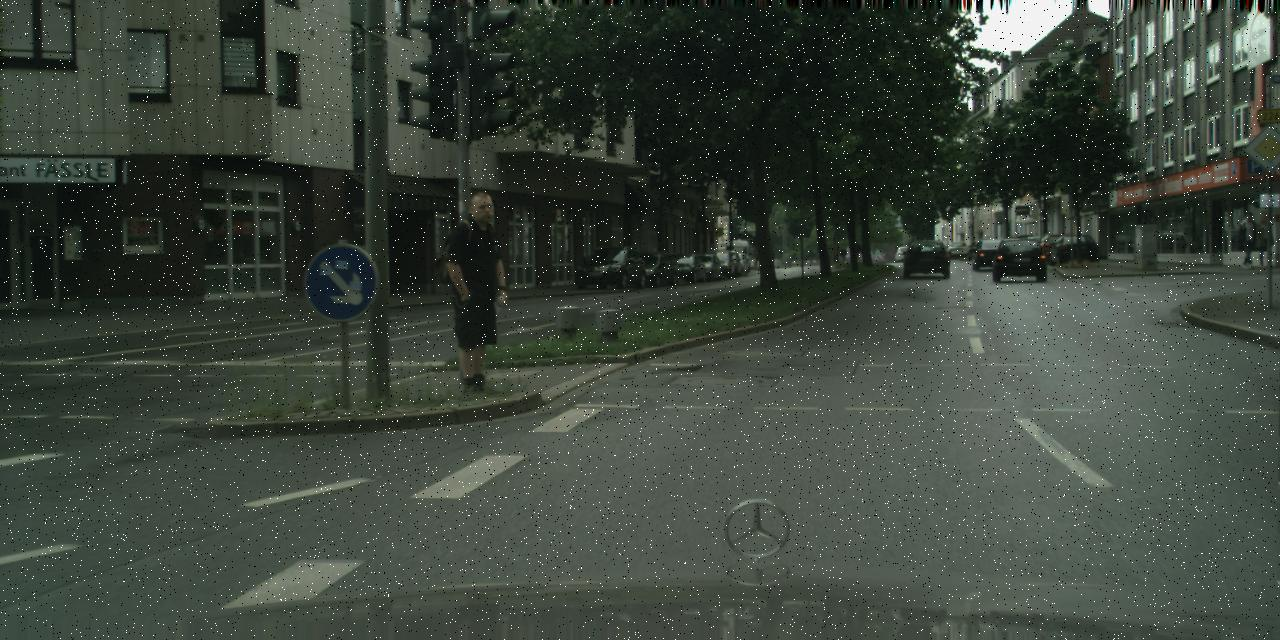ped: (438, 190, 520, 394), (1236, 211, 1260, 269), (1254, 213, 1276, 267)
